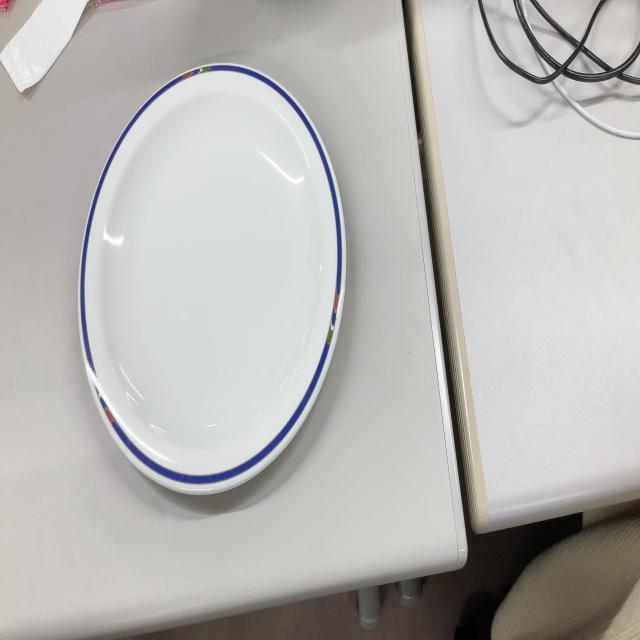plate: (75, 58, 348, 499)
